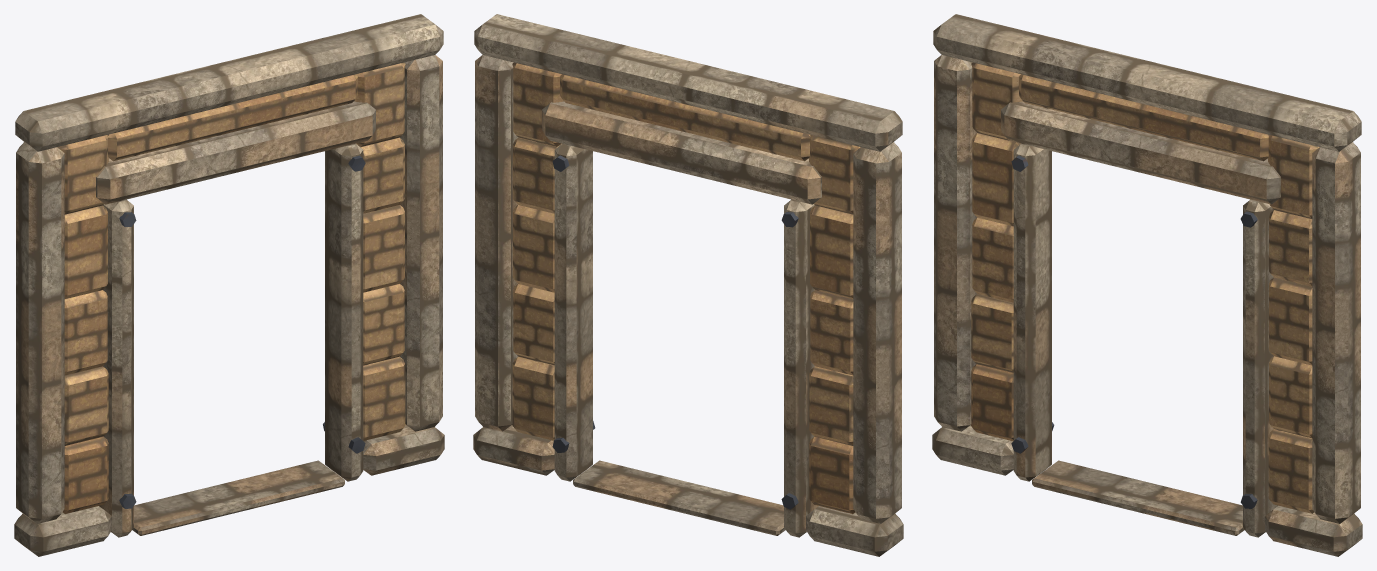
File: kapi_kasasi.glb
3 renders of one model, left to right at view 1: azimuth 30°, elevation 25°; view 2: azimuth 150°, elevation 25°; view 3: azimuth 330°, elevation 25°, orthographic.
Visible parts, largest first — view 1: kapi_kasasi; view 2: kapi_kasasi; view 3: kapi_kasasi.
Part boxes in pixels (bbox=[...]): kapi_kasasi: bbox=[14, 14, 444, 556]; kapi_kasasi: bbox=[473, 14, 903, 556]; kapi_kasasi: bbox=[932, 14, 1362, 556].
Size of the model in its own units: 3 by 3.01 by 0.37.
Materials: 1 (1 with a texture image).
